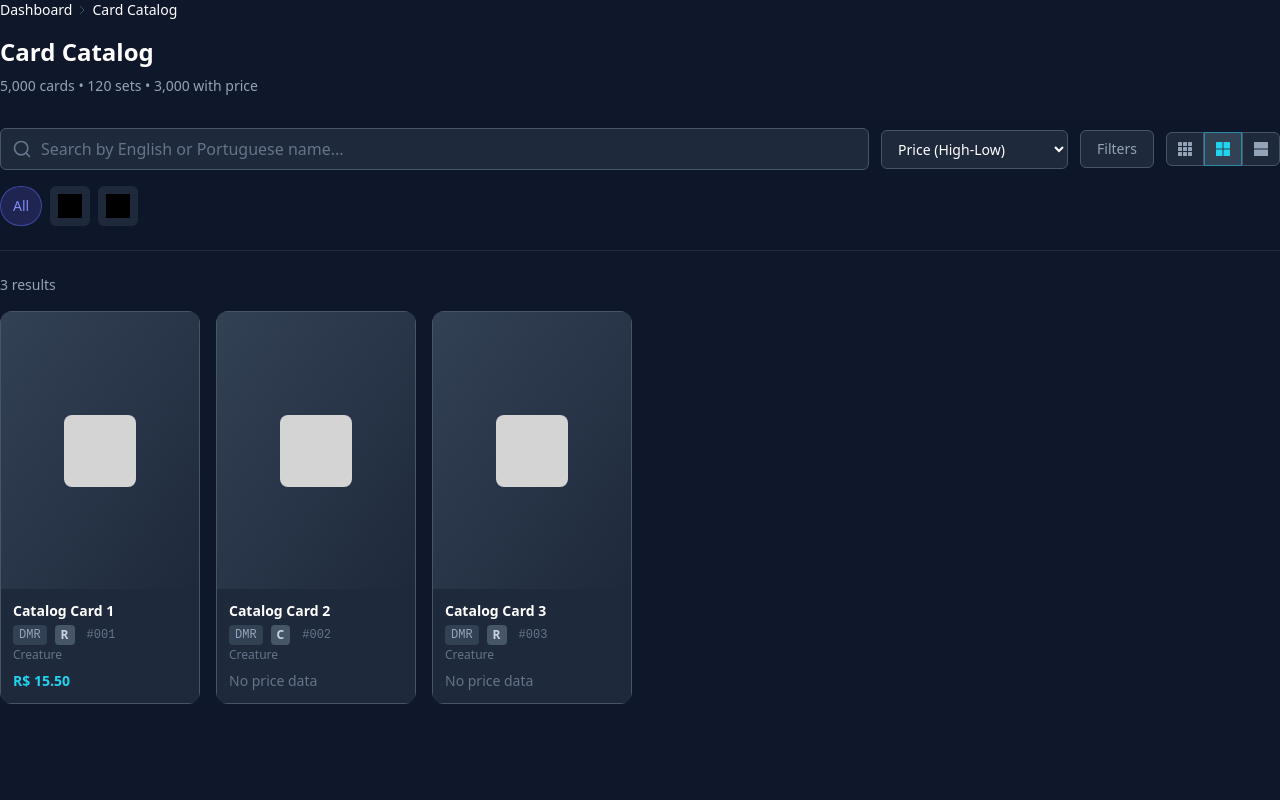
Scenario: CatalogPage › clear filters resets all filters including set and owned
The image size is (1280, 800).
Check: the element with test id "catalog-grid" is shown, box [0, 311, 632, 704]
// Activate a set filter
Click the button with test id "set-icon-DMR": [70, 206] box [50, 186, 90, 226]
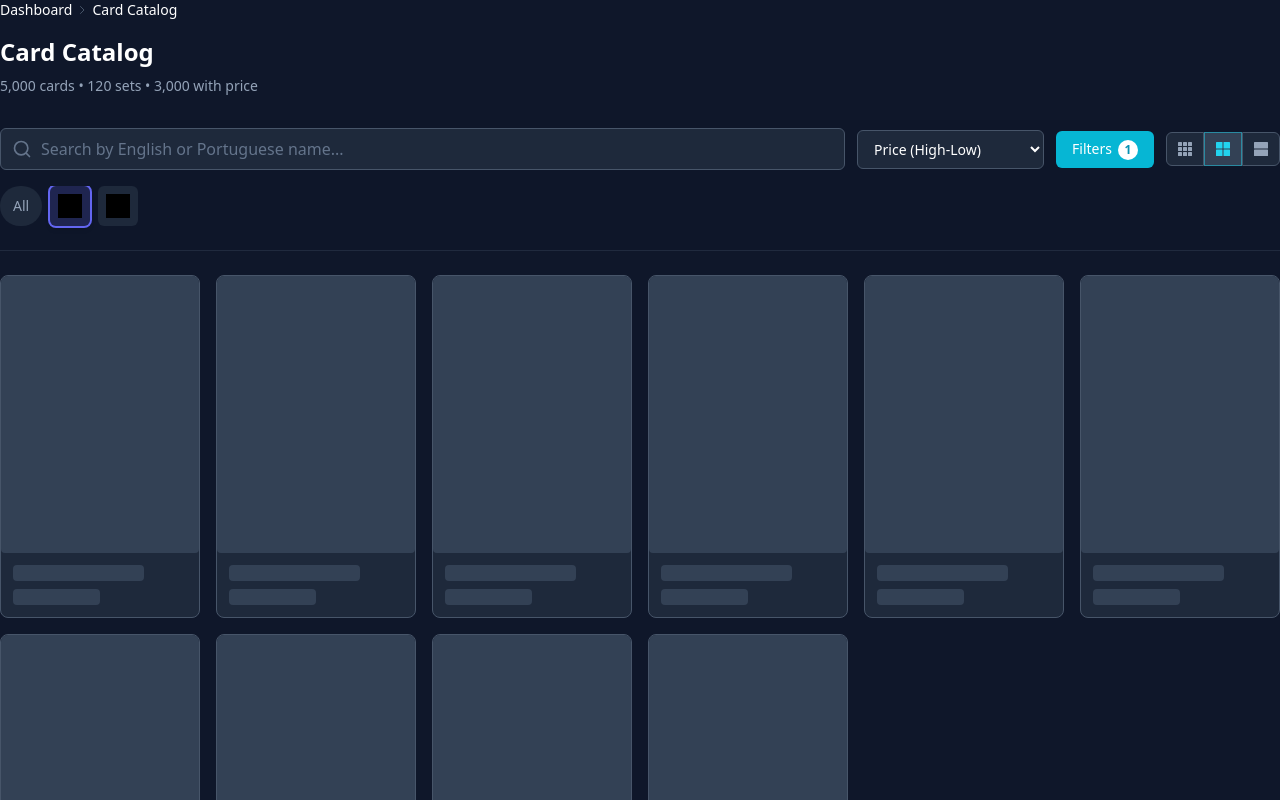
// Open filters and click clear
Click the button with test id "toggle-filters-btn": [1105, 149] box [1056, 130, 1154, 168]
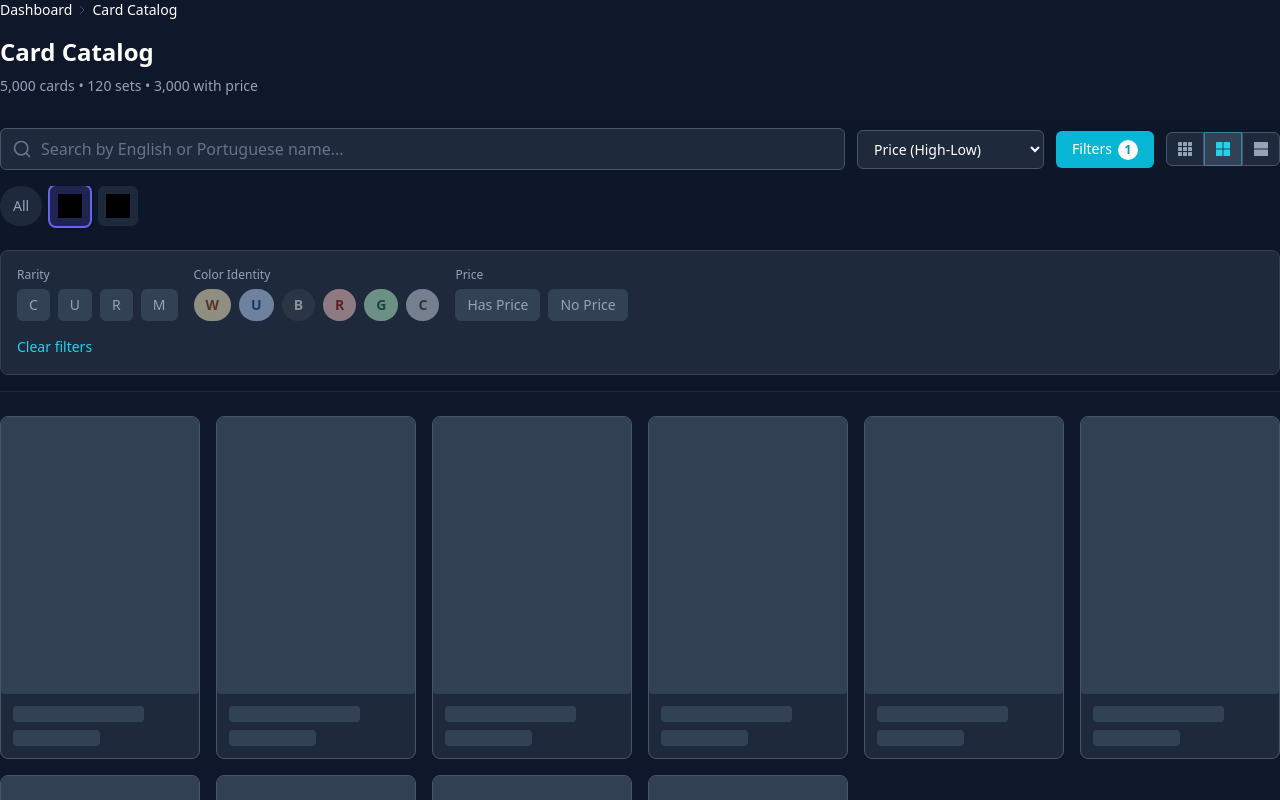
Check: the button with test id "clear-filters-btn" is shown
Click the button with test id "clear-filters-btn": [55, 347] box [17, 337, 92, 357]
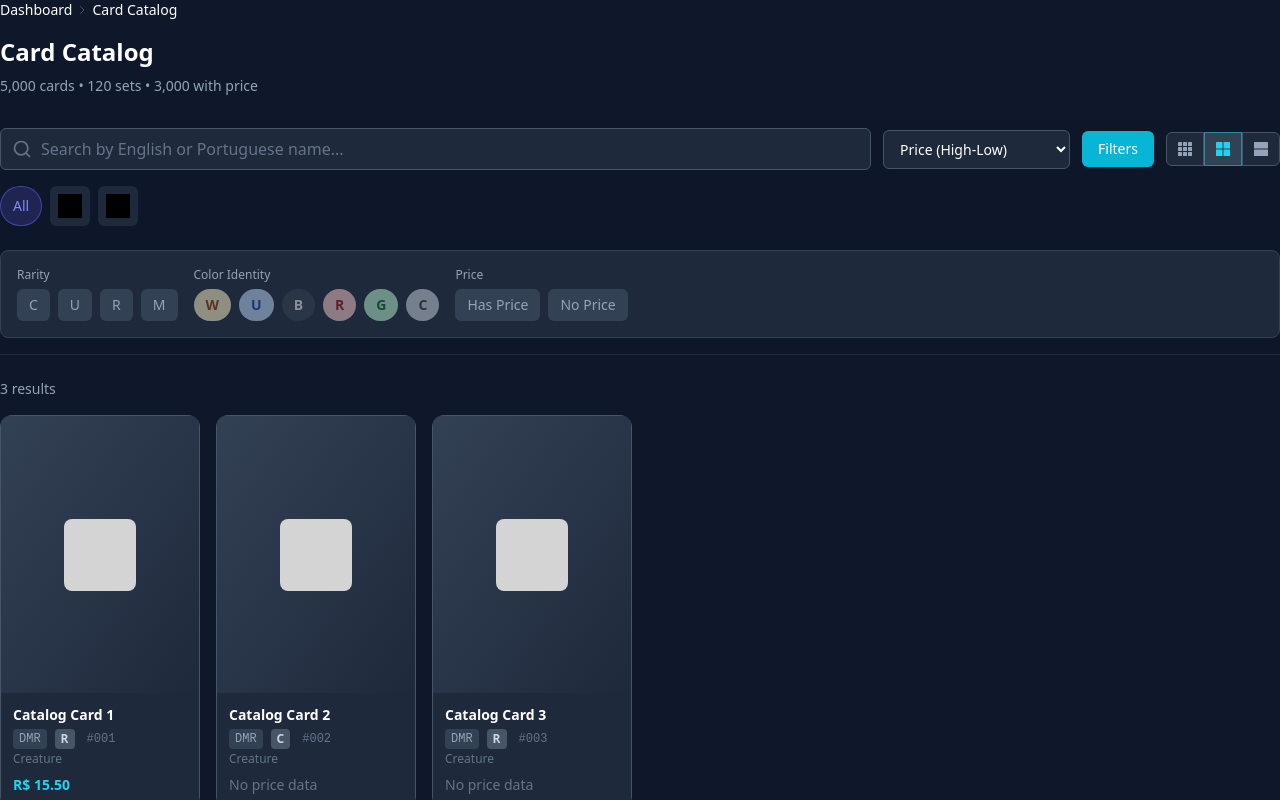
Check: the text with test id "filter-badge" is gone
